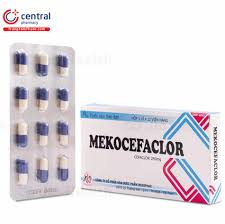Waisan: (90, 130, 185, 155)
